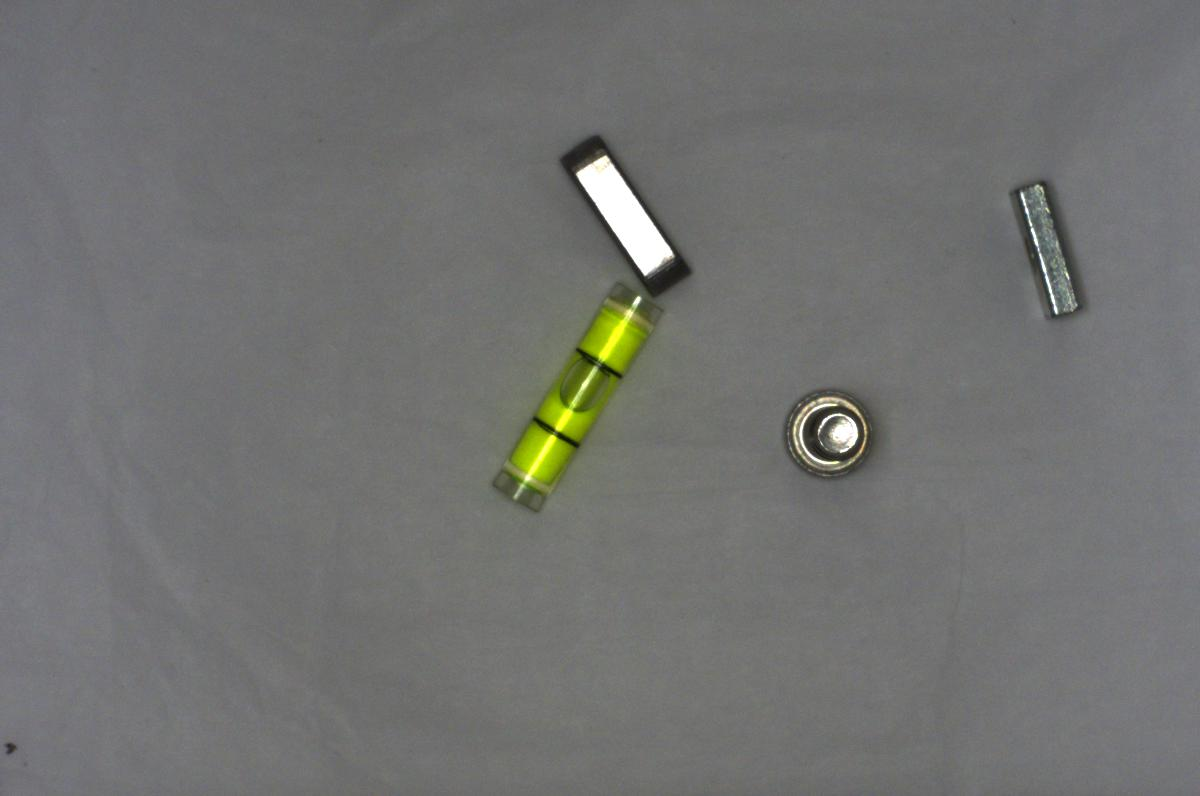Hexagon screw: (772, 378, 873, 487)
Horizontal bubble: (486, 281, 667, 514)
Keybar: (552, 126, 687, 295)
Rectangular nut: (1005, 176, 1091, 338)
